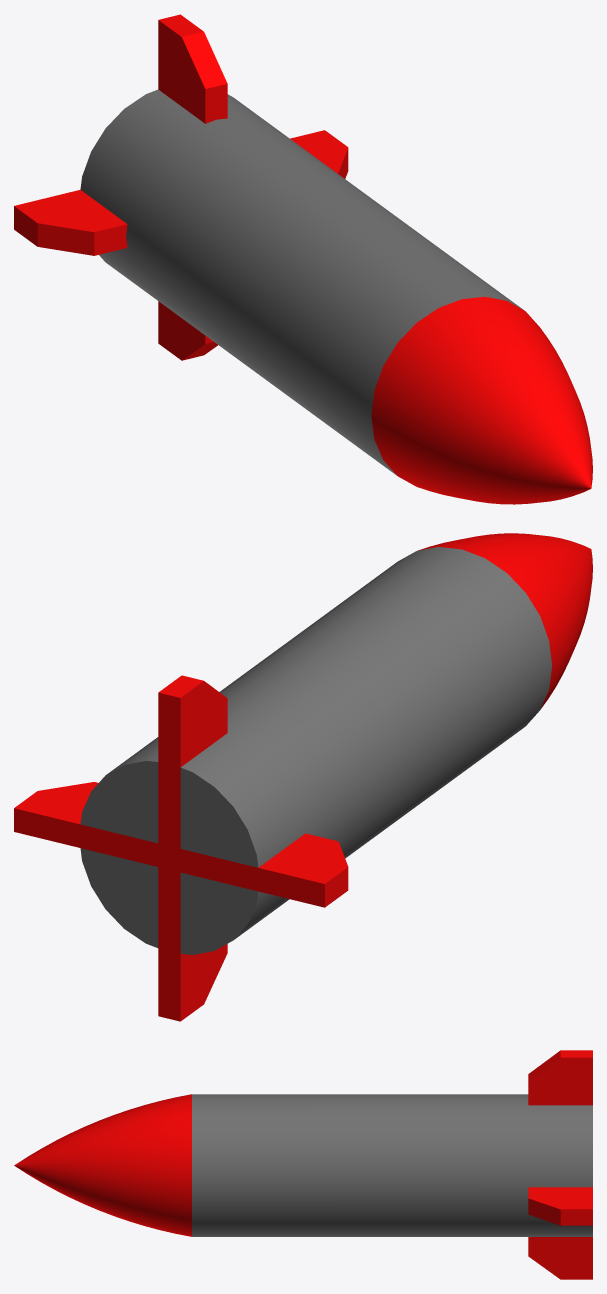
File: Bullet.dae
3 views of the same model, one above another, from view 1: azimuth 30°, elevation 25°; view 2: azimuth 150°, elevation 25°; view 3: azimuth 270°, elevation 25° (orthographic). The views are drawn at different scales.
Parts seen in each view (by area): view 1: SketchUp (×3); view 2: SketchUp (×3); view 3: SketchUp (×3).
Part boxes in pixels (x1,y1,x2,y2): SketchUp (×3): [14, 14, 592, 504]; SketchUp (×3): [14, 533, 592, 1021]; SketchUp (×3): [14, 1050, 592, 1279].
Size of the model in its own units: 6.08 by 14.29 by 6.05.
